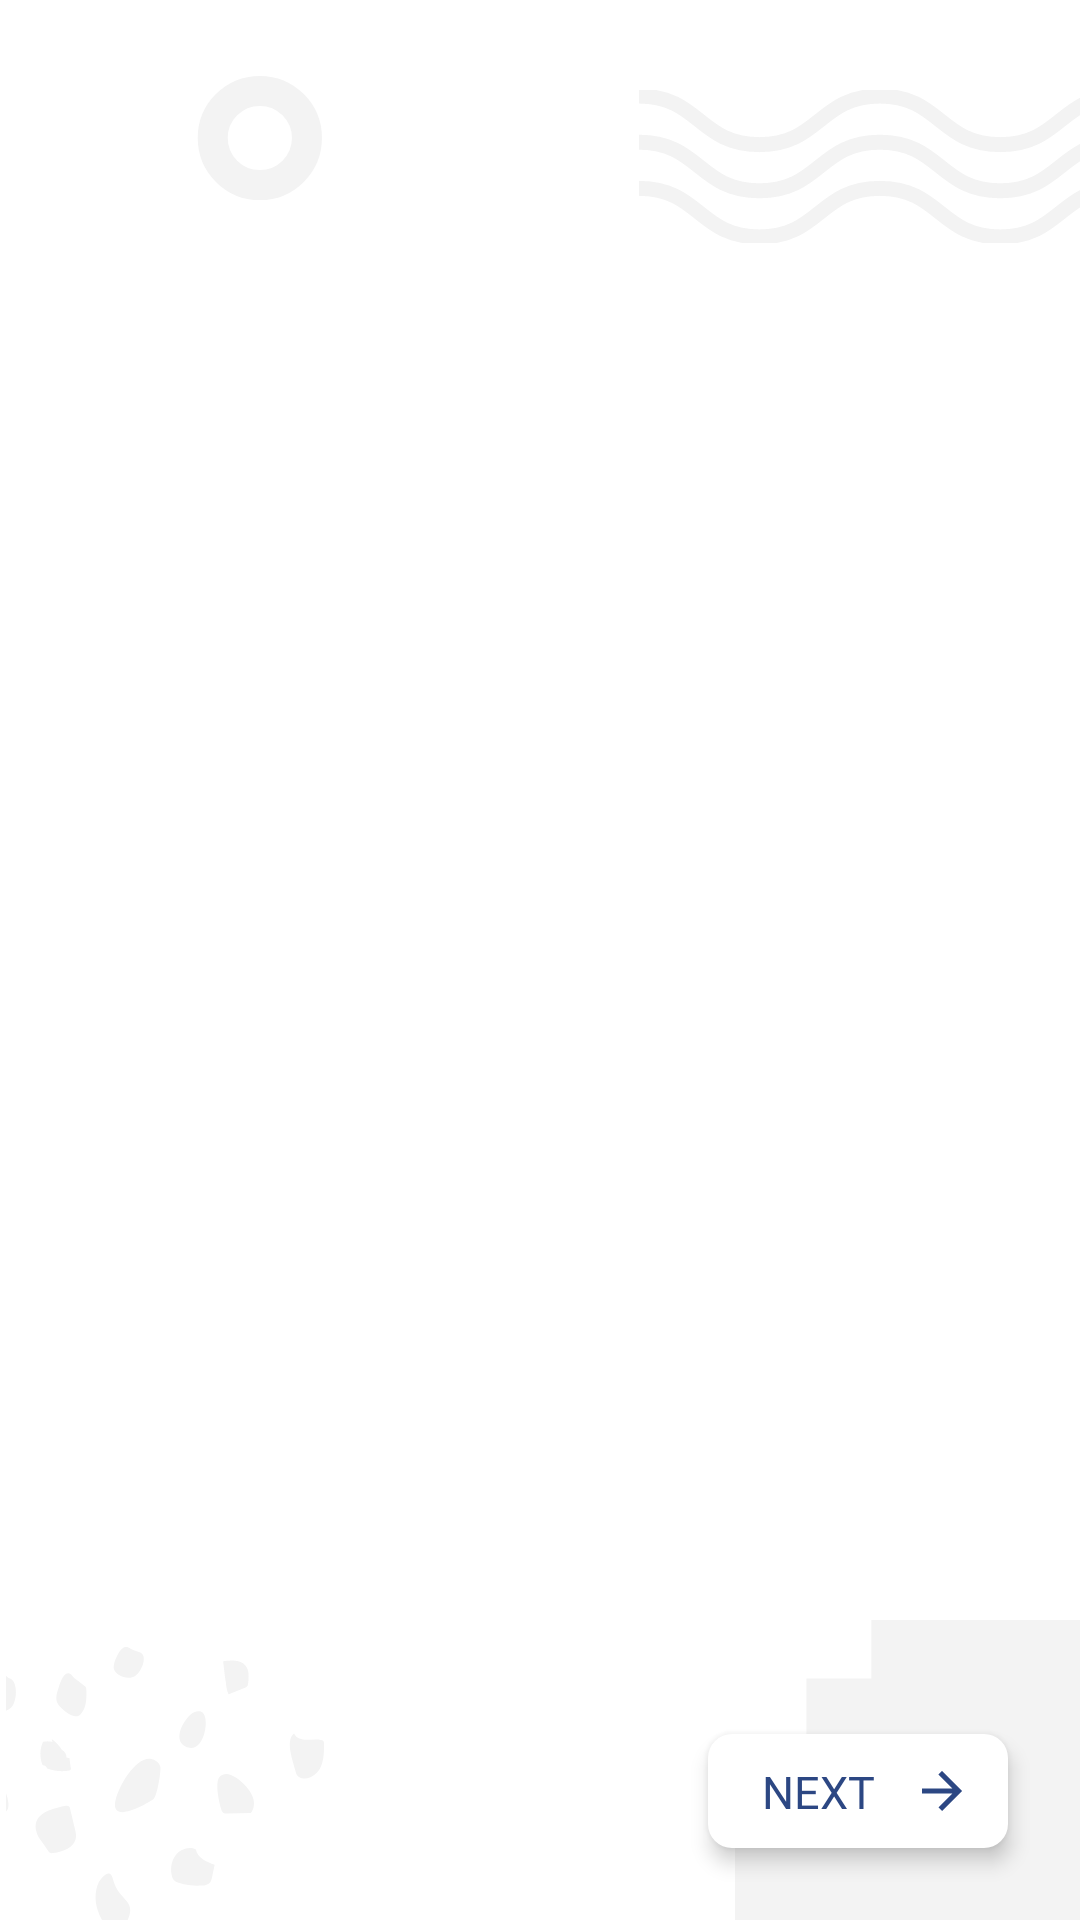

Icon click points for this 1080px x 1920px phone screenshot, format point (x, y):
arrow: point (942, 1791)
